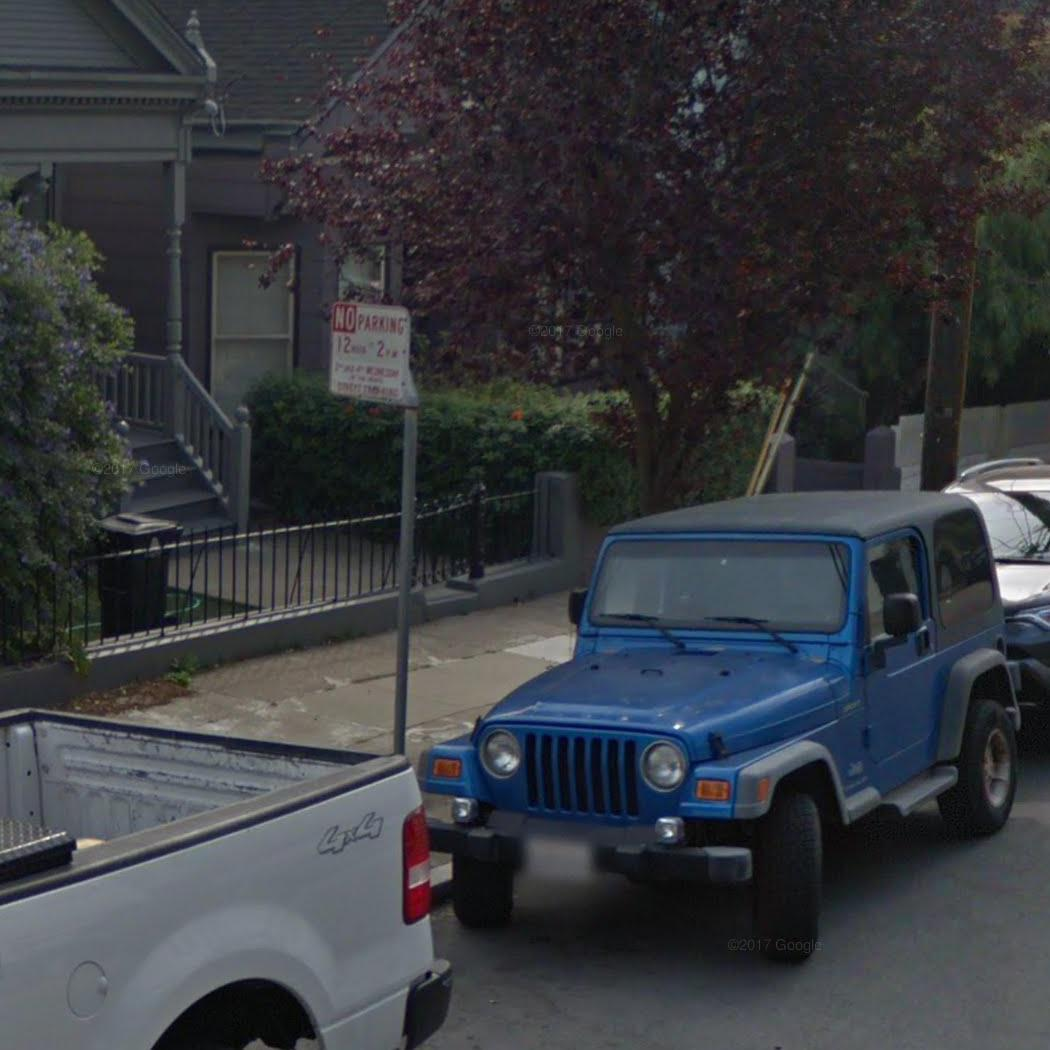No Parking: (326, 298, 414, 409)
